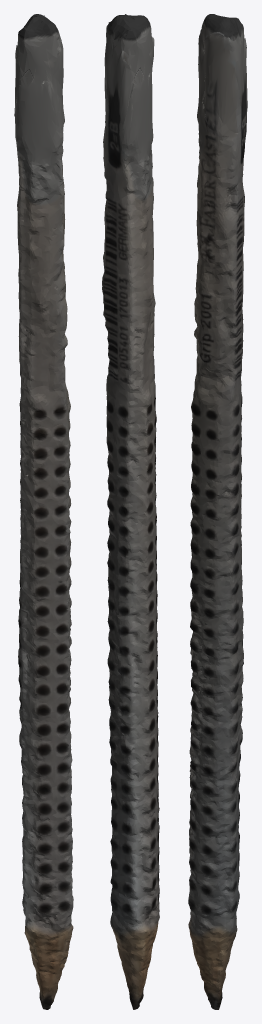
The model's file is Pen.obj.
3 views of the same model, side by side, from view 1: azimuth 90°, elevation 25°; view 2: azimuth 150°, elevation 25°; view 3: azimuth 270°, elevation 25° (orthographic).
Parts seen in each view (by area): view 1: Pen; view 2: Pen; view 3: Pen.
Part boxes in pixels (x1,y1,x2,y2): Pen: (14,14,73,1009); Pen: (102,14,159,1009); Pen: (188,14,247,1009).
Bounding box in the file's own units: 0.00847 × 0.1726 × 0.00935.
1 material, 1 textured.
